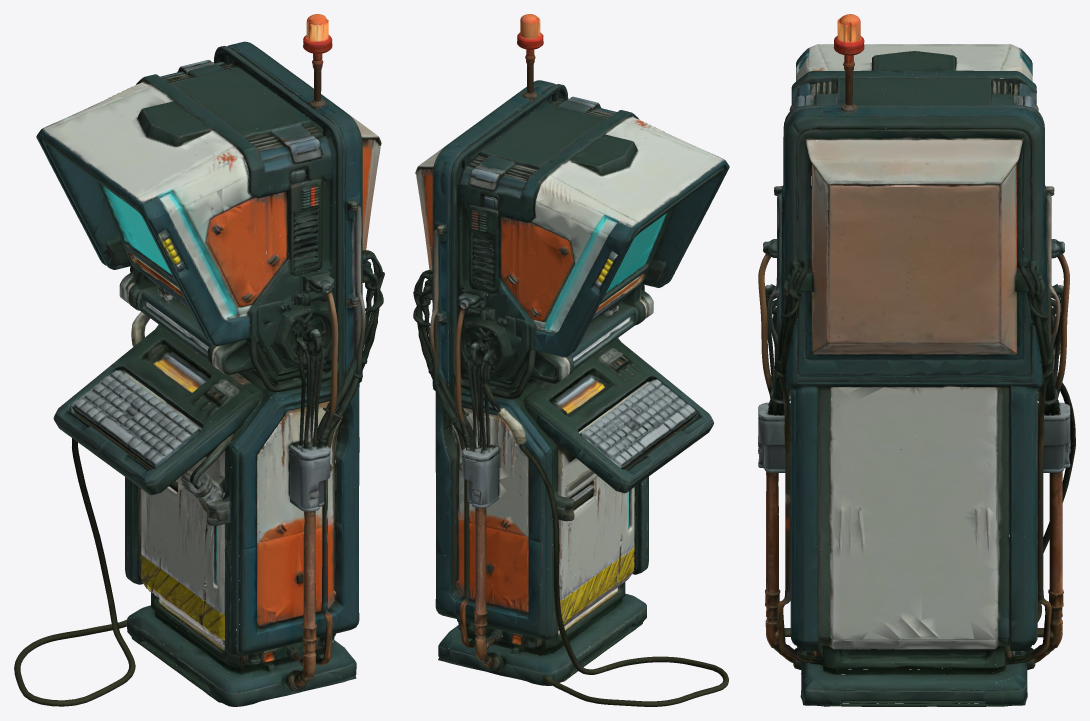
File: terminal_scifi.glb
3 renders of one model, left to right at view 1: azimuth 30°, elevation 25°; view 2: azimuth 150°, elevation 25°; view 3: azimuth 270°, elevation 25°, orthographic. The views are drawn at different scales.
Parts seen in each view (by area): view 1: tripo_node_65c20c87-2b96-431a-9230-00796d076801; view 2: tripo_node_65c20c87-2b96-431a-9230-00796d076801; view 3: tripo_node_65c20c87-2b96-431a-9230-00796d076801.
Boxes of the visible parts, x1,y1,x2,y2 form: tripo_node_65c20c87-2b96-431a-9230-00796d076801: (14,14,384,706); tripo_node_65c20c87-2b96-431a-9230-00796d076801: (413,14,729,706); tripo_node_65c20c87-2b96-431a-9230-00796d076801: (758,14,1075,706).
Bounding box in the file's own units: 0.4828 × 0.9801 × 0.4144.
Materials: 1 (1 with a texture image).
